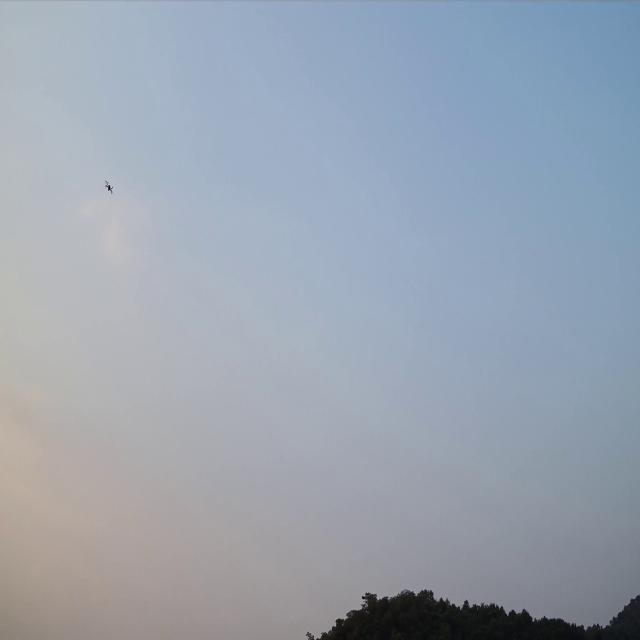UAV: (104, 180, 113, 195)
